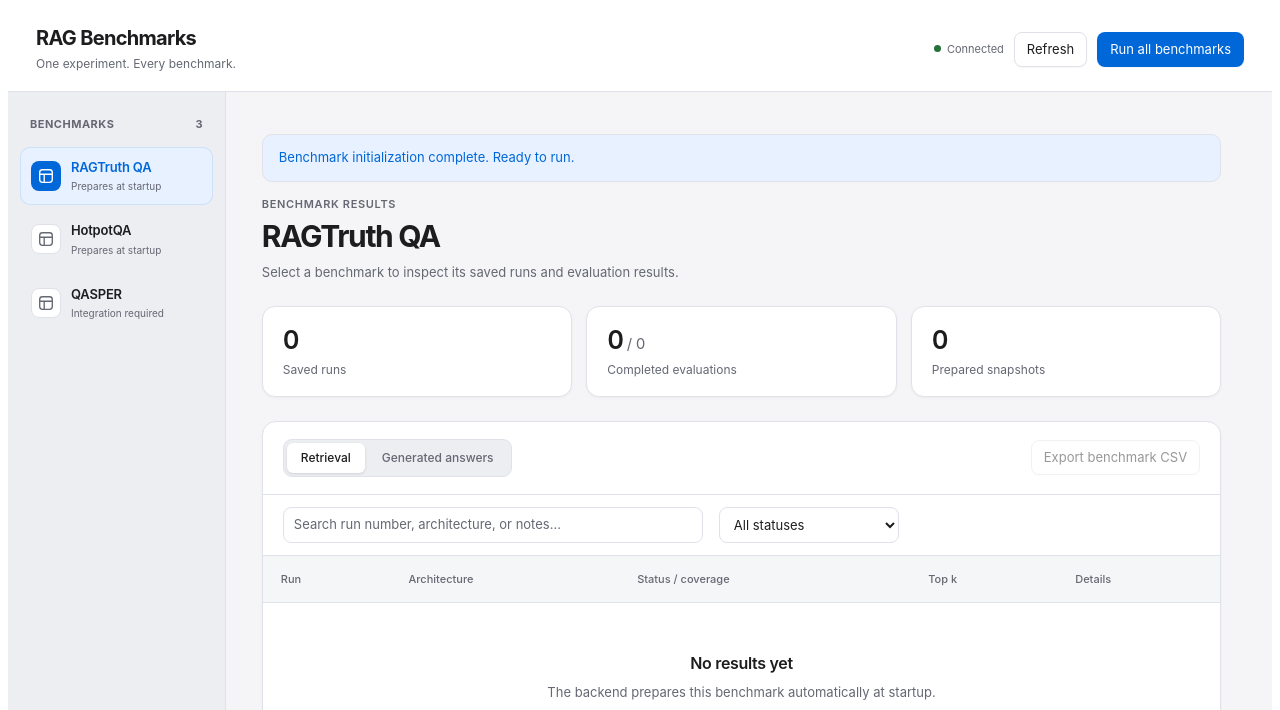
Test: Benchmark workspace › starts from an empty snapshot store and announces preparation, indexing and execution
The width and height of the screenshot is (1280, 710).
Expected: the text "Connected" is shown, [934,41,1004,58]
Click the button "Run all benchmarks" at [1171, 50], box [1097,32,1244,67]
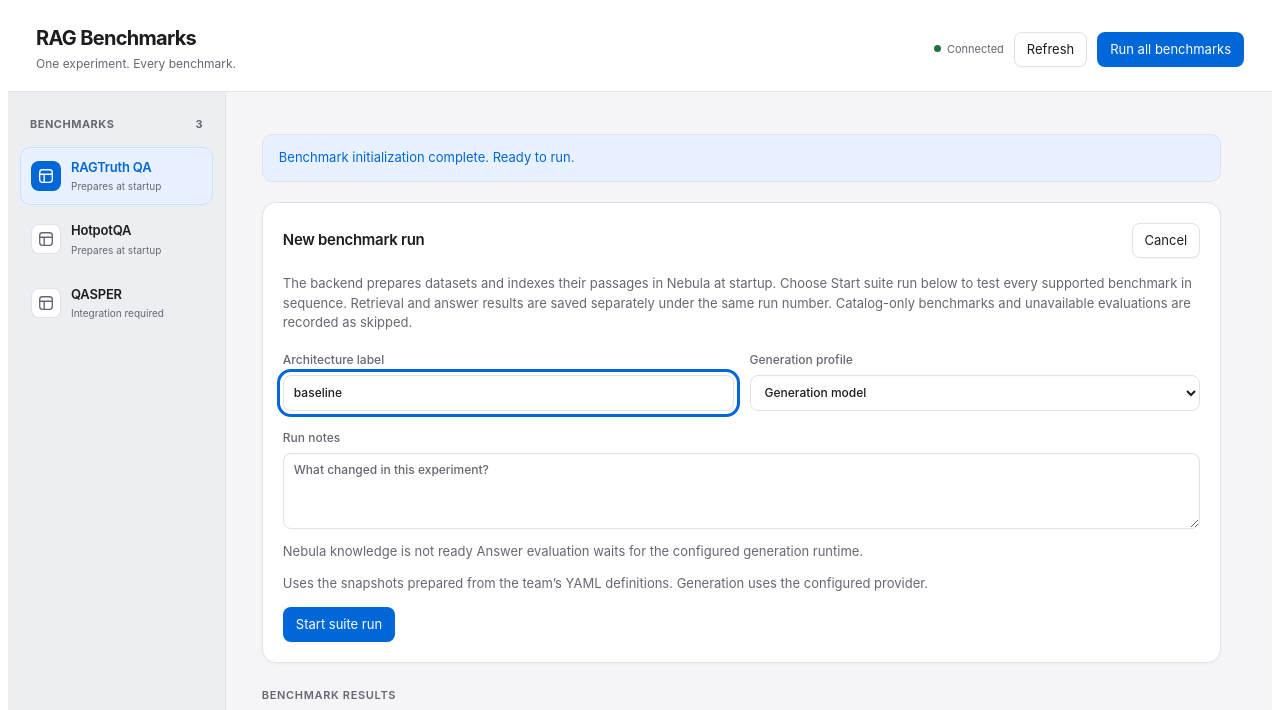
Now the button "Start suite run" is enabled
Now the dropdown labelled "Generation profile" is enabled, box [750,374,1200,410]
Click the button "Start suite run" at [339, 624], box [283,606,395,642]
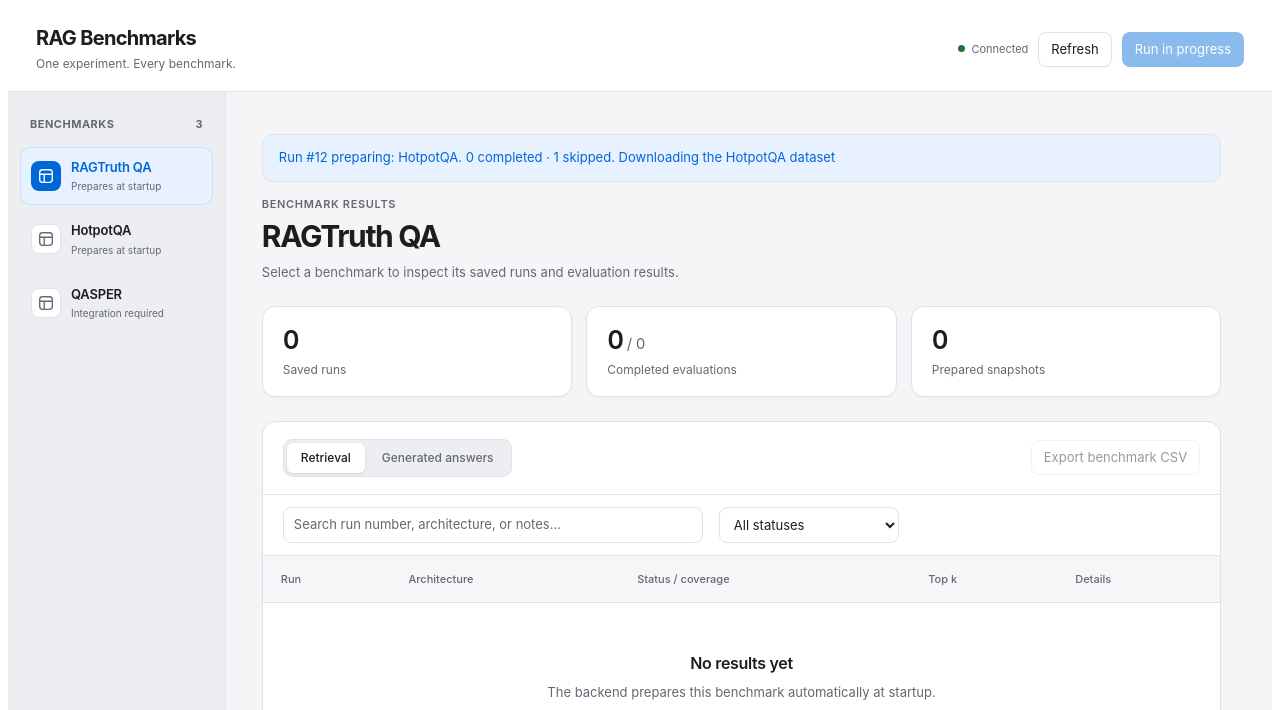
Now the message shows "Run #12 preparing: HotpotQA.", box [279,149,835,165]
Now the message shows "Downloading the HotpotQA dataset", box [279,149,835,165]
Now the button "Run in progress" is disabled, box [1122,32,1244,67]
Click the button "Refresh" at [1075, 50], box [1038,32,1112,67]
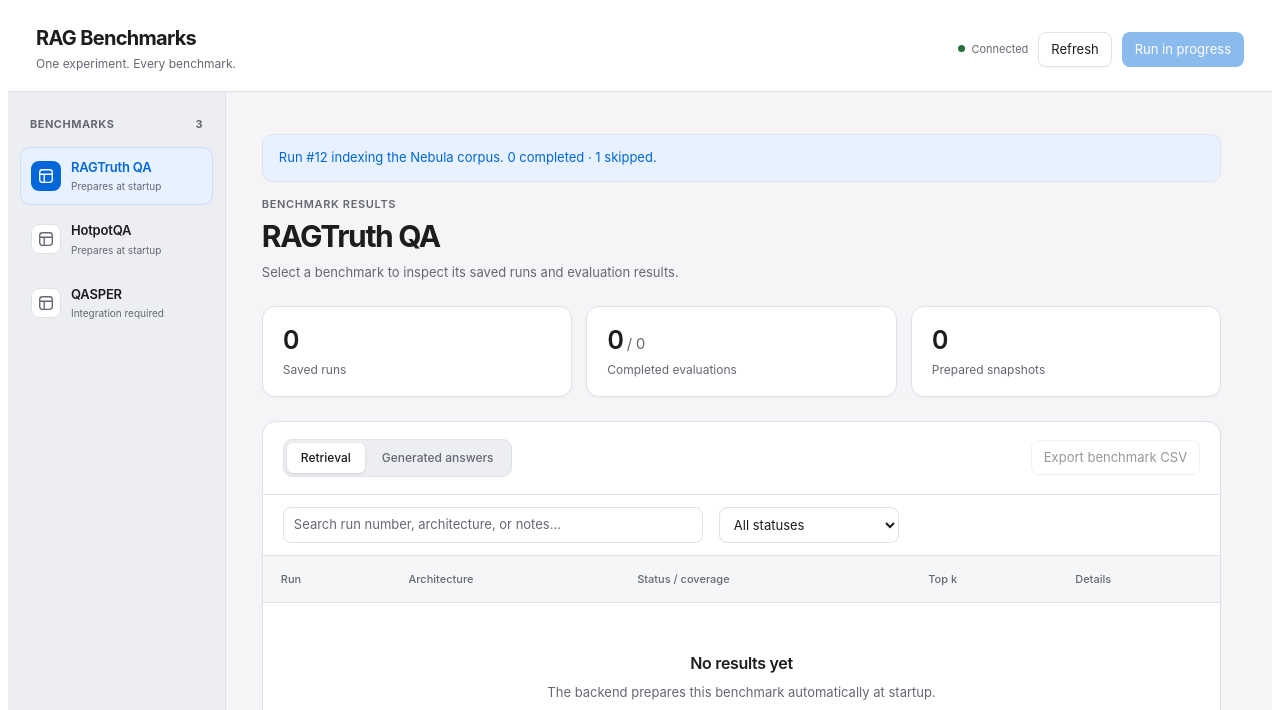
Now the message shows "Run #12 indexing the Nebula corpus.", box [279,149,657,165]
Click the button "Refresh" at [1075, 50], box [1038,32,1112,67]
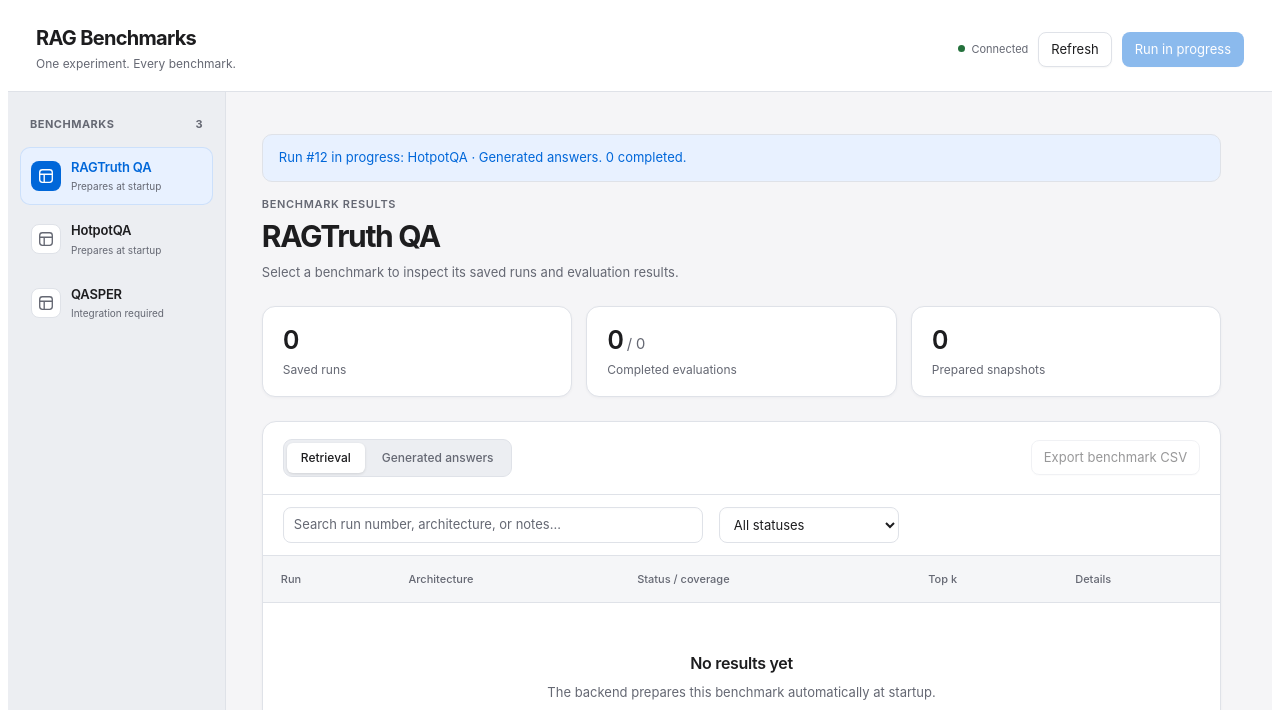
Now the message shows "Run #12 in progress: HotpotQA · Generated answers.", box [279,149,686,165]
